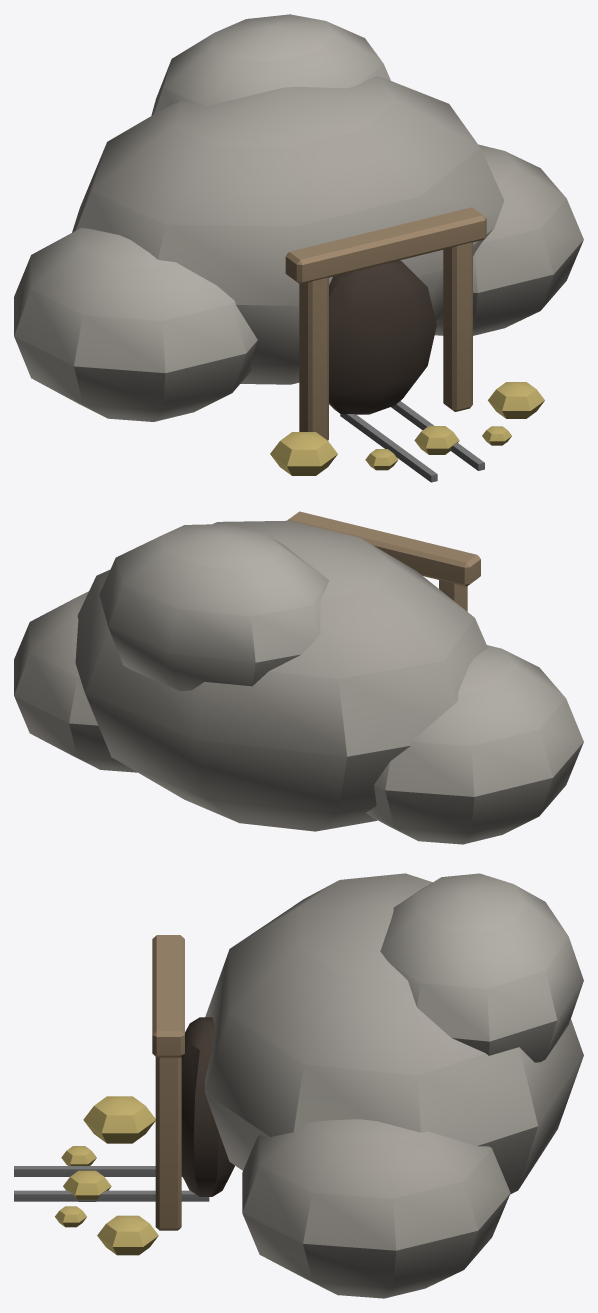
File: gold_mine.glb
3 views of the same model, one above another, from view 1: azimuth 30°, elevation 25°; view 2: azimuth 150°, elevation 25°; view 3: azimuth 270°, elevation 25° (orthographic). The views are drawn at different scales.
Parts seen in each view (by area): view 1: gold_mine; view 2: gold_mine; view 3: gold_mine.
Part boxes in pixels (bbox=[...]): gold_mine: bbox=[14, 14, 583, 482]; gold_mine: bbox=[14, 511, 583, 844]; gold_mine: bbox=[14, 873, 583, 1298].
Size of the model in its own units: 4.17 by 2.2 by 3.5.
